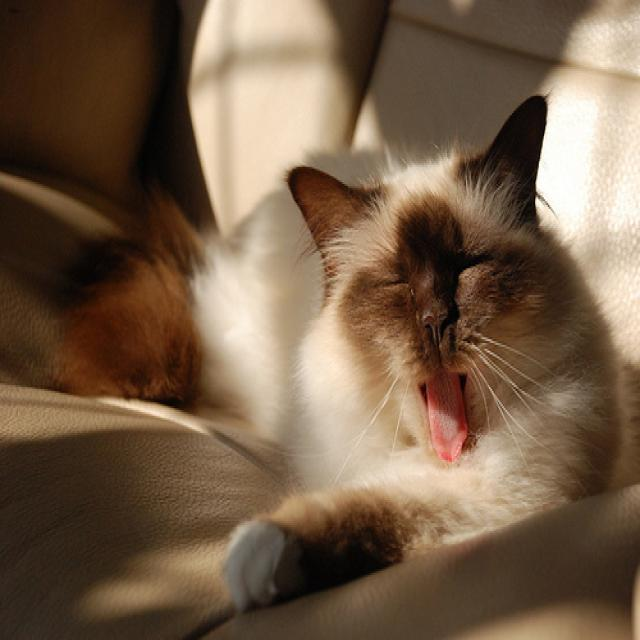Birman: (287, 94, 547, 466)
